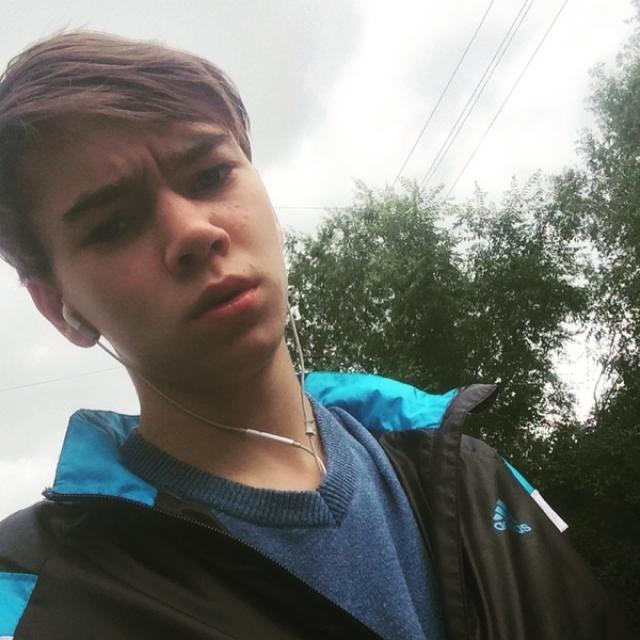earlobe: (21, 272, 98, 350)
